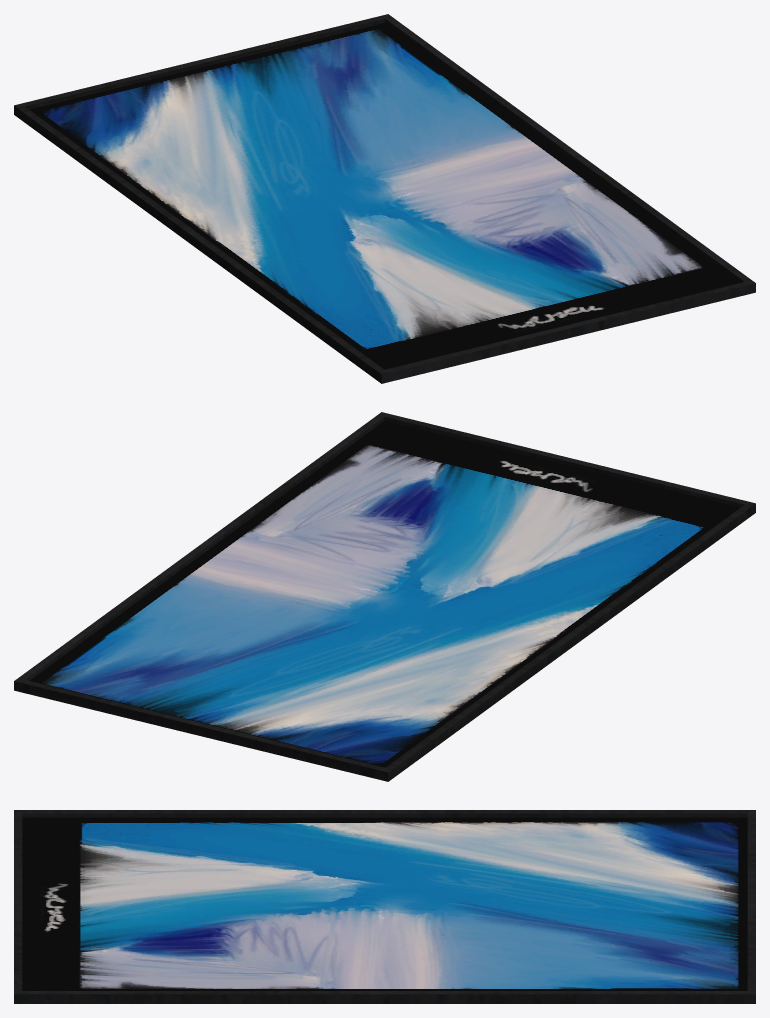
The model's file is poster_science03_wau.dae.
3 renders of one model, top to bottom at view 1: azimuth 30°, elevation 25°; view 2: azimuth 150°, elevation 25°; view 3: azimuth 270°, elevation 25°, orthographic.
Parts seen in each view (by area): view 1: polySurface245; view 2: polySurface245; view 3: polySurface245.
Part boxes in pixels (bbox=[...]): polySurface245: bbox=[14, 14, 755, 383]; polySurface245: bbox=[14, 412, 755, 781]; polySurface245: bbox=[14, 810, 755, 1003].
Size of the model in its own units: 59.75 by 1.44 by 102.
